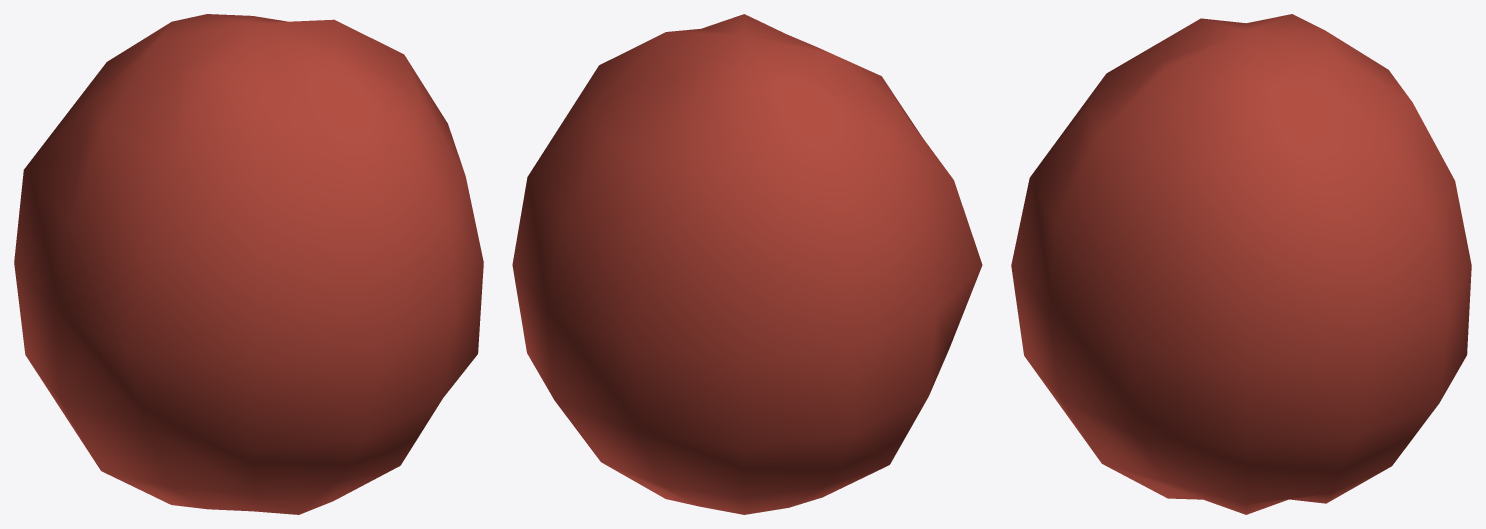
The model's file is balloon_inflated.glb.
3 renders of one model, left to right at view 1: azimuth 30°, elevation 25°; view 2: azimuth 150°, elevation 25°; view 3: azimuth 270°, elevation 25°, orthographic. The views are drawn at different scales.
Parts seen in each view (by area): view 1: balloon_inflated; view 2: balloon_inflated; view 3: balloon_inflated.
Boxes of the visible parts, x1,y1,x2,y2 form: balloon_inflated: (14, 14, 483, 514); balloon_inflated: (512, 14, 982, 514); balloon_inflated: (1011, 14, 1471, 514).
Bounding box in the file's own units: 0.229 × 0.2509 × 0.2272.
